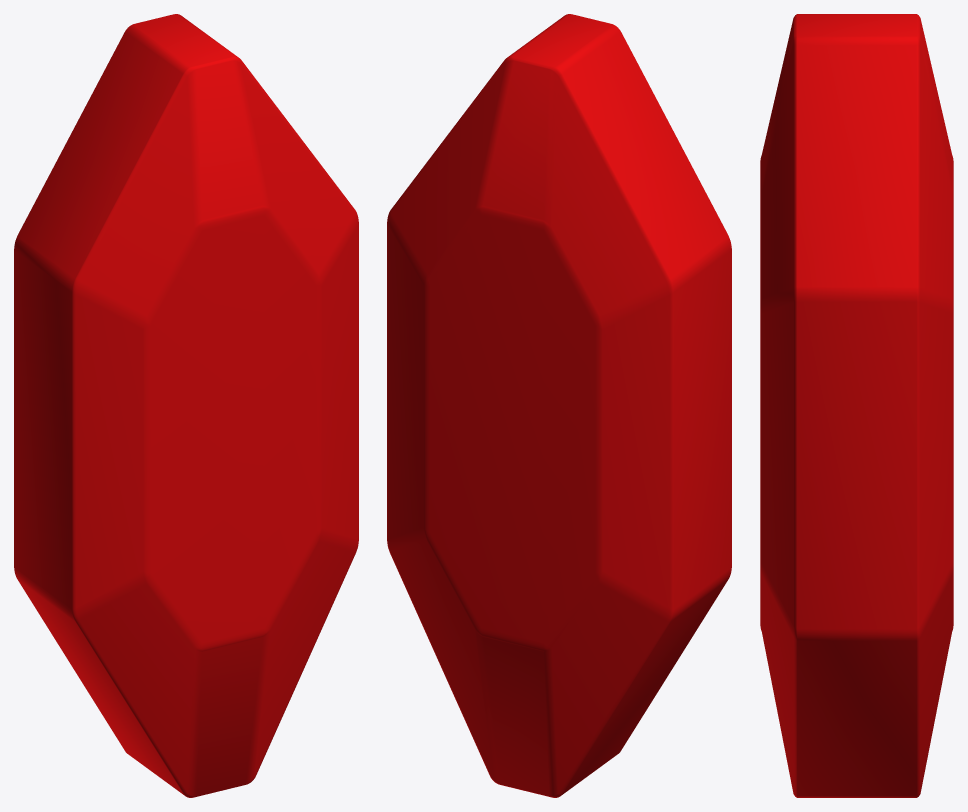
The model's file is ruby.fbx.
3 views of the same model, side by side, from view 1: azimuth 30°, elevation 25°; view 2: azimuth 150°, elevation 25°; view 3: azimuth 270°, elevation 25° (orthographic). The views are drawn at different scales.
Visible parts, largest first — view 1: Cube; view 2: Cube; view 3: Cube.
Boxes of the visible parts, x1=… form: Cube: x1=14, y1=14, x2=358, y2=797; Cube: x1=387, y1=14, x2=731, y2=797; Cube: x1=760, y1=14, x2=953, y2=797.
Bounding box in the file's own units: 134 × 327 × 75.95.
